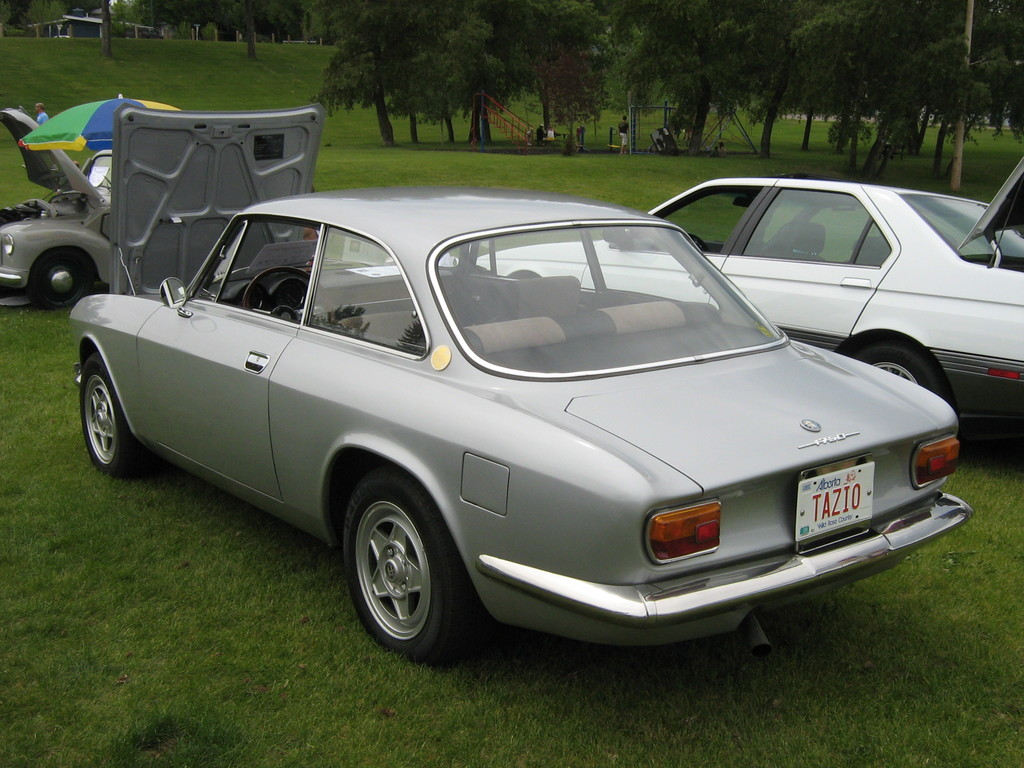Car: (68, 186, 975, 663), (476, 153, 1023, 424), (0, 108, 113, 308)
